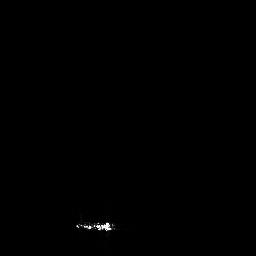ship: (74, 218, 117, 233)
